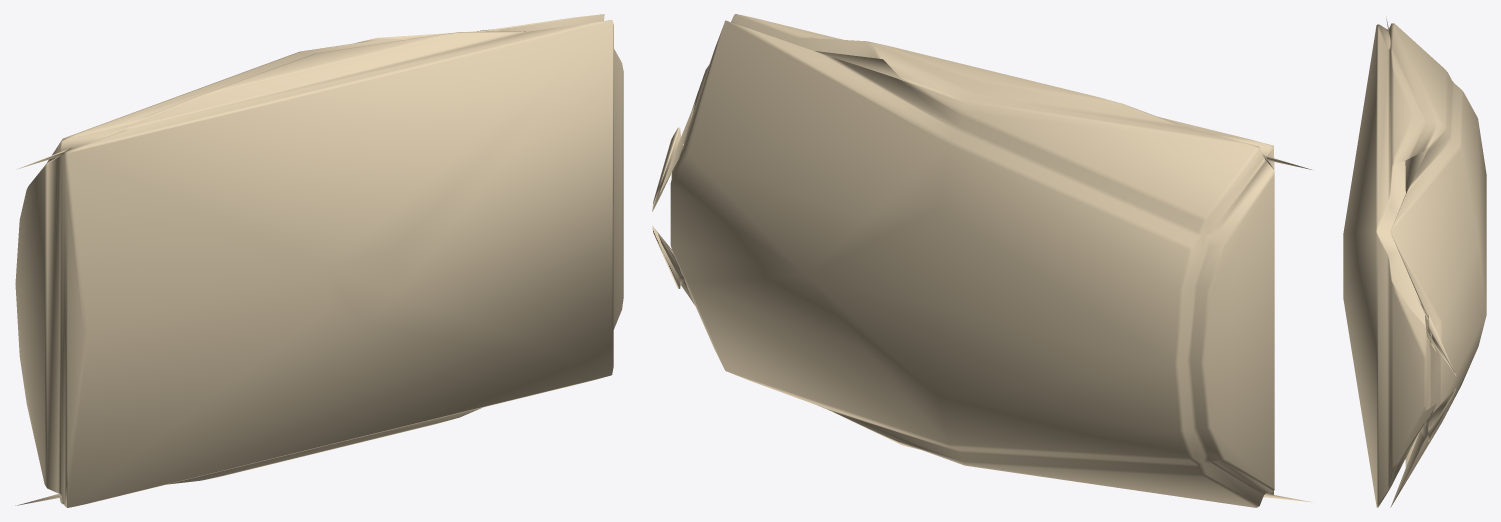
Rendered from carrier_main_tidemark.glb.
3 views of the same model, side by side, from view 1: azimuth 30°, elevation 25°; view 2: azimuth 150°, elevation 25°; view 3: azimuth 270°, elevation 25° (orthographic). The views are drawn at different scales.
Visible parts, largest first — view 1: carrier_main_tidemark; view 2: carrier_main_tidemark; view 3: carrier_main_tidemark.
Boxes of the visible parts, x1=… form: carrier_main_tidemark: x1=15, y1=14, x2=623, y2=507; carrier_main_tidemark: x1=652, y1=14, x2=1313, y2=507; carrier_main_tidemark: x1=1343, y1=16, x2=1486, y2=507.
Size of the model in its own units: 7.59 by 4.5 by 1.93.
